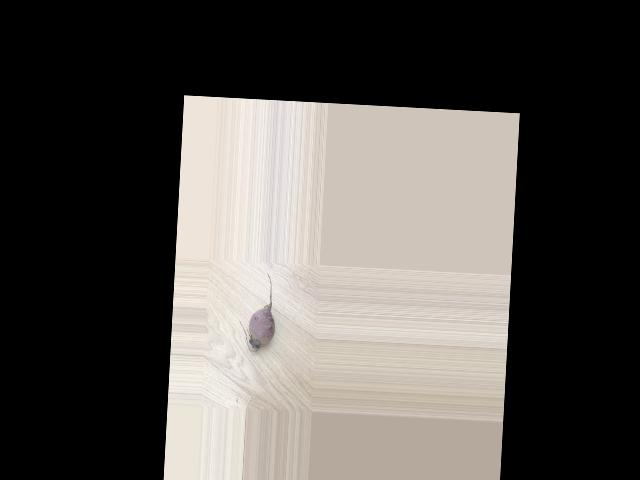beet: (238, 271, 278, 352)
